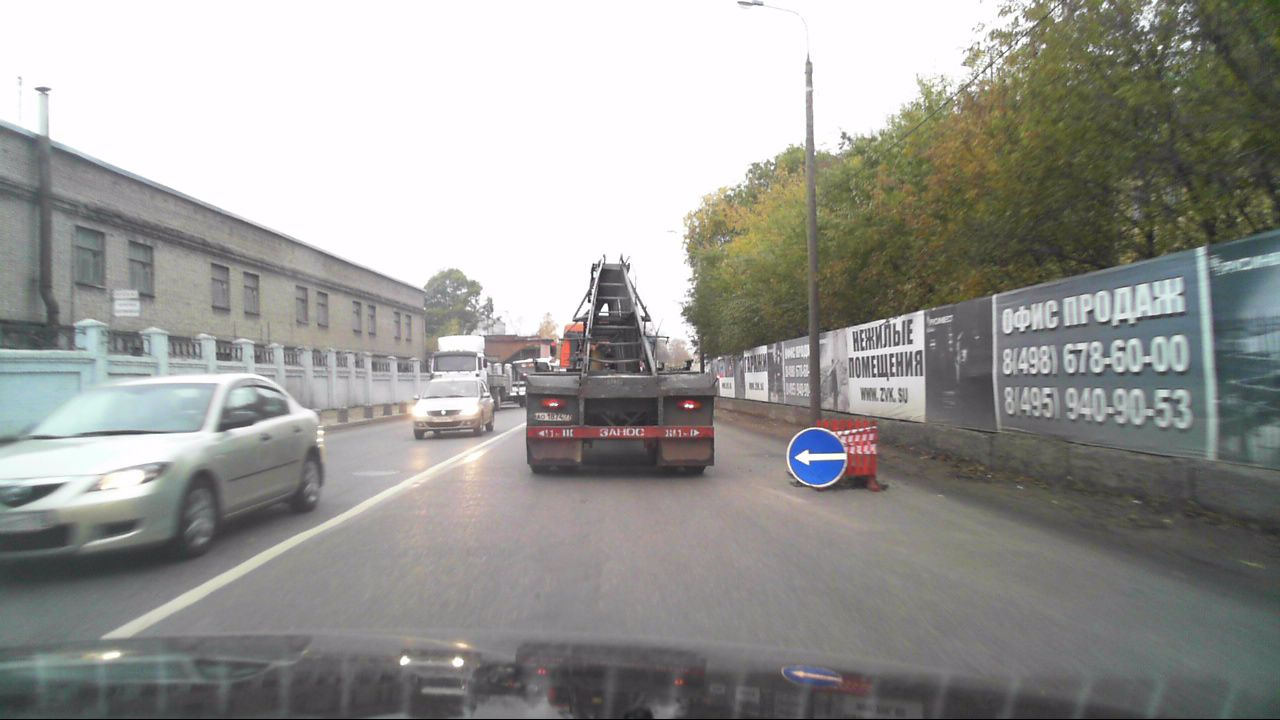Turn Left: (787, 427, 846, 488)
